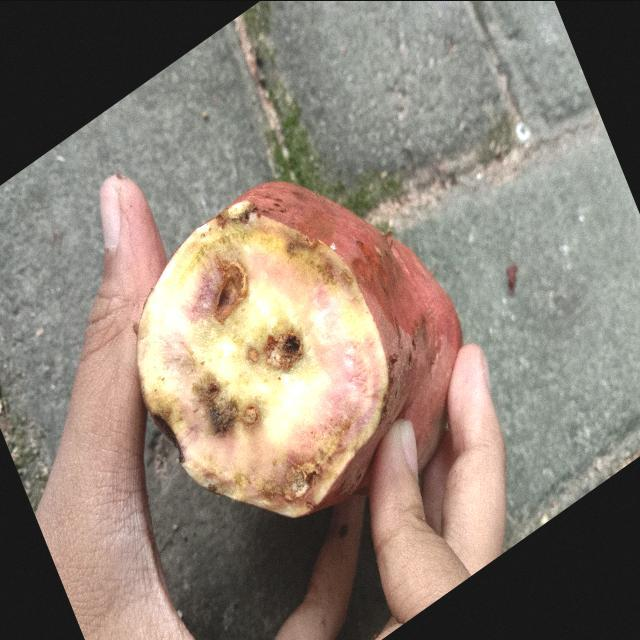Sick Sweet Potato_Tuber Rot: (138, 210, 388, 515)
